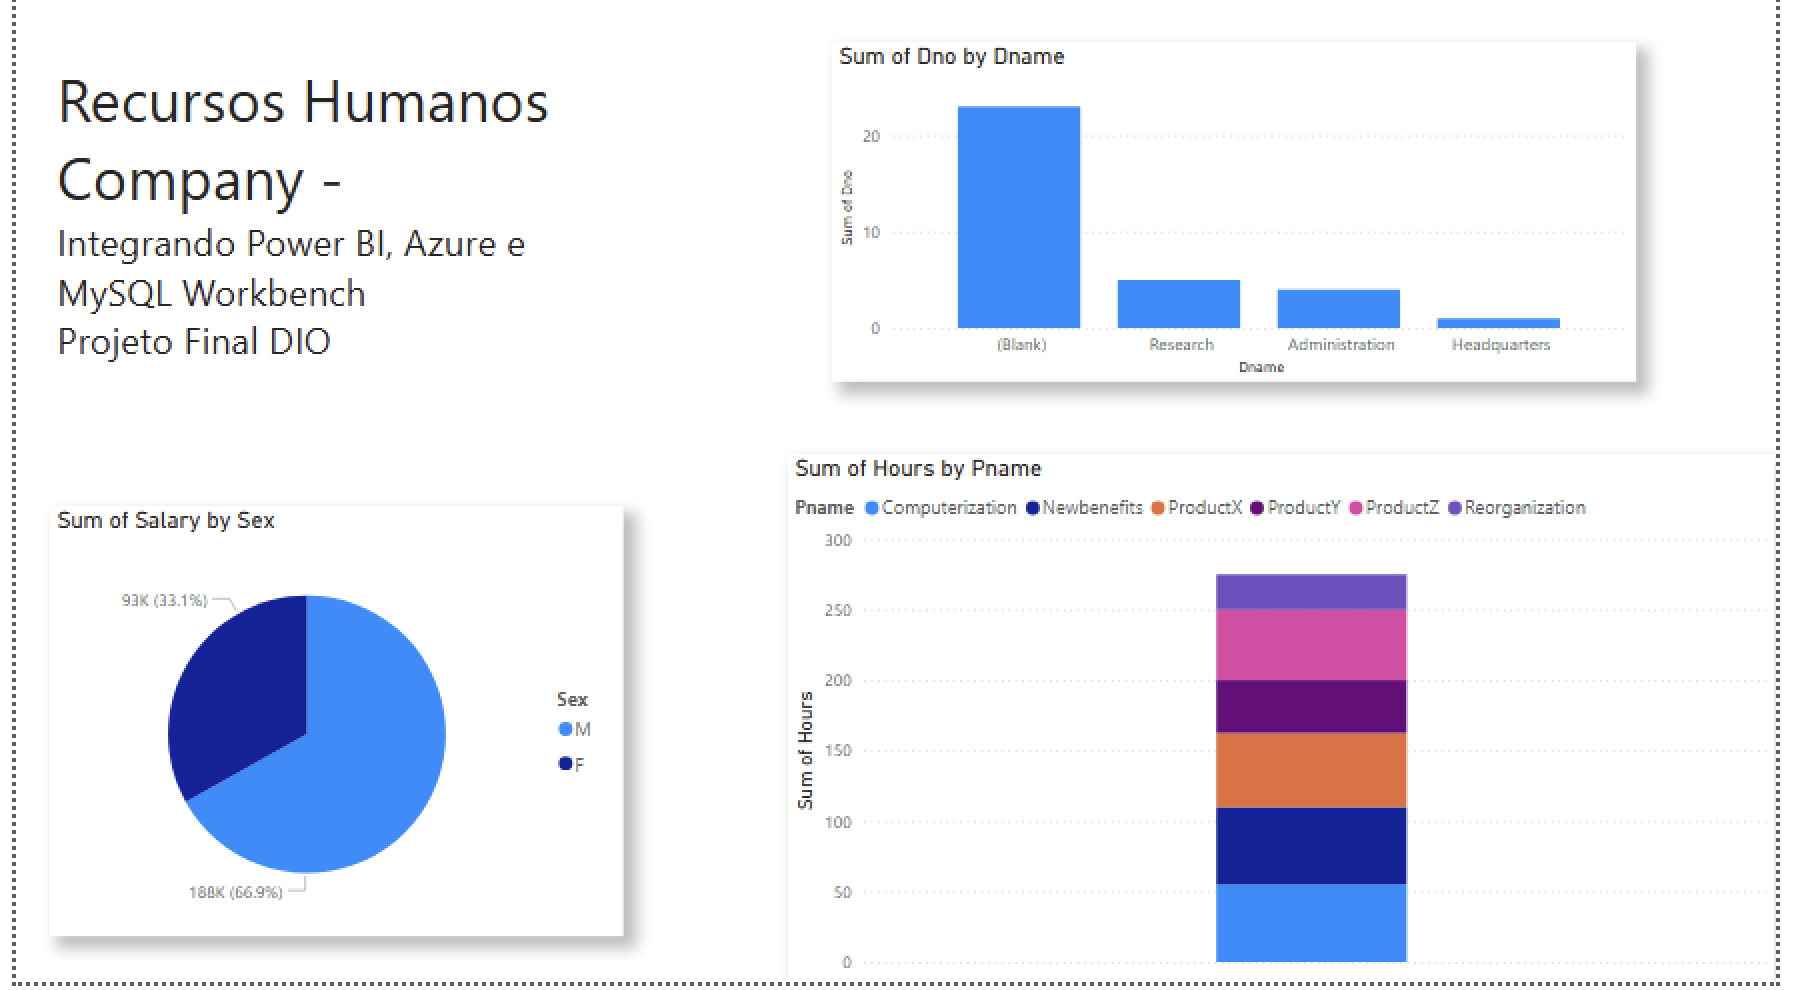

Layout of this report page (visuals, bound fields, positions):
{"tool":"powerbi","page":{"name":"Page 1","canvas":[1280,720],"ordinal":0},"visuals":[{"type":"pieChart","fields":{"Category":["azure_company employee.Sex"],"Y":["Sum(azure_company employee.Salary)"]},"box":[24.7,374,416.8,313],"z":0},{"type":"clusteredColumnChart","fields":{"Y":["Sum(azure_company employee.Dno)"],"Category":["azure_company departament.Dname"]},"box":[593.1,36.2,584.8,247.1],"z":1000},{"type":"columnChart","fields":{"Series":["azure_company project.Pname"],"Y":["Sum(azure_company works_on.Hours)"]},"box":[561.8,336.1,718.2,383.8],"z":2000},{"type":"textbox","box":[24,43,418,234],"z":3000}]}

Visuals, with their boxes in screenshot pixels (x1, y1, x2, y2), scaled from the page's 1280x720 canvas onto the 1794x990 screenshot:
pieChart - azure_company employee.Sex x Sum(azure_company employee.Salary): x1=35, y1=514, x2=619, y2=945
clusteredColumnChart - Sum(azure_company employee.Dno) x azure_company departament.Dname: x1=831, y1=50, x2=1651, y2=390
columnChart - azure_company project.Pname x Sum(azure_company works_on.Hours): x1=787, y1=462, x2=1793, y2=989
textbox: x1=34, y1=59, x2=619, y2=381
